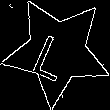L_NE: (33, 22, 81, 81)
